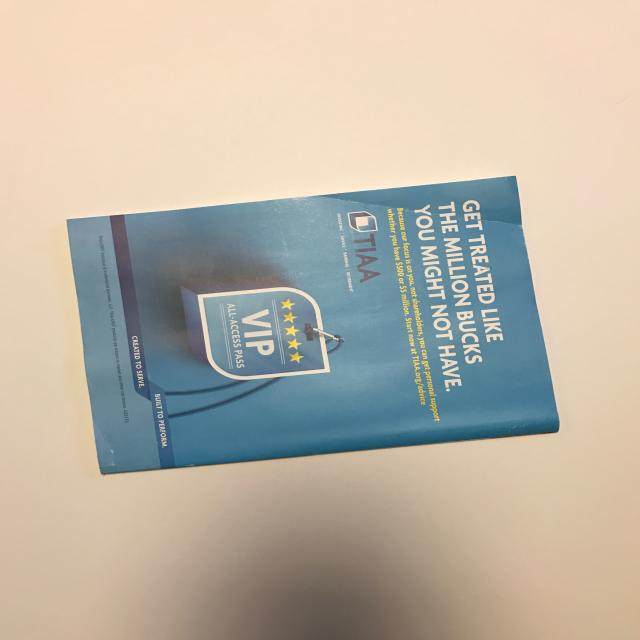paper: (0, 31, 635, 618)
